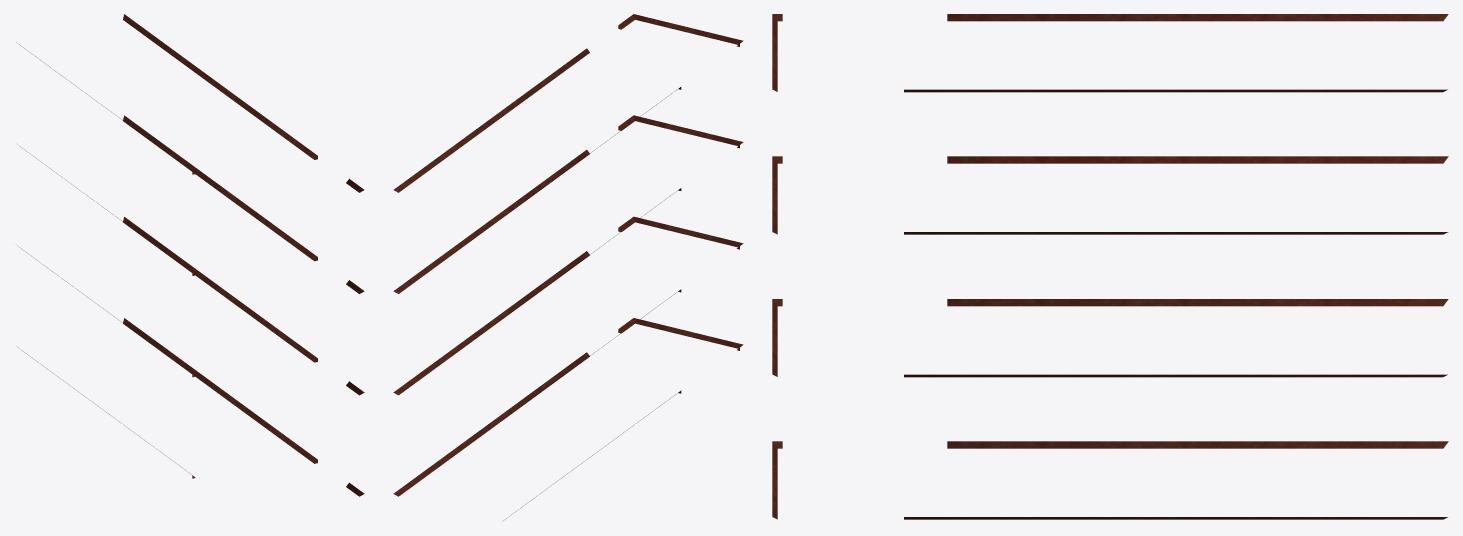
File: plinth.fbx
The picture shows the model from 3 angles, left to right: view 1: azimuth 30°, elevation 25°; view 2: azimuth 150°, elevation 25°; view 3: azimuth 270°, elevation 25°; orthographic projection. The views are drawn at different scales.
Visible parts, largest first — view 1: plinthKitchen2.004; view 2: plinthKitchen2.004; view 3: plinthKitchen2.004.
Boxes of the visible parts, box(x1,y1,x2,y2) form: plinthKitchen2.004: box(16, 14, 364, 496); plinthKitchen2.004: box(393, 14, 743, 521); plinthKitchen2.004: box(772, 14, 1448, 519).
Size of the model in its own units: 290 by 774 by 1098.
Materials: 1 (1 with a texture image).
